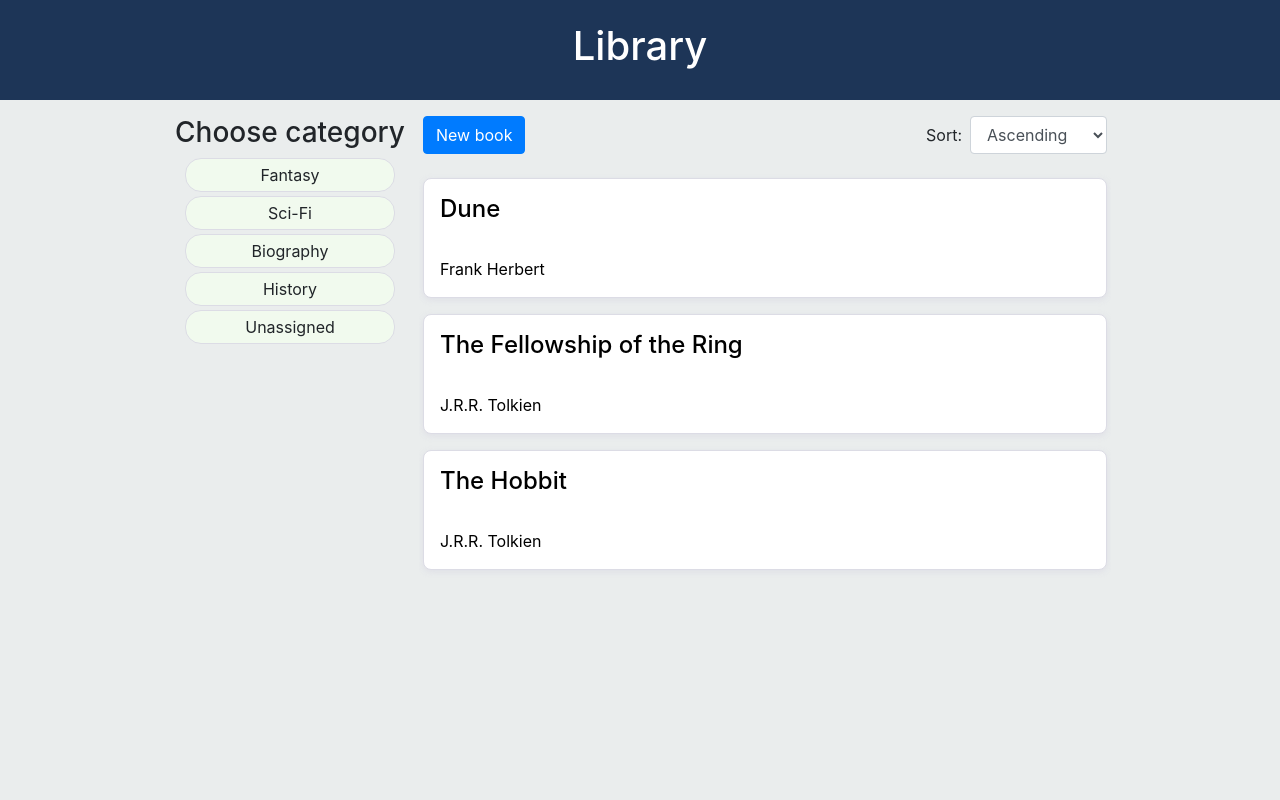
Scenario: Books list › handling categories › should show no books placeholder when filtered out everything
This screenshot has width=1280, height=800.
Click the list item "History".
click(290, 289)  # box [185,272,395,306]
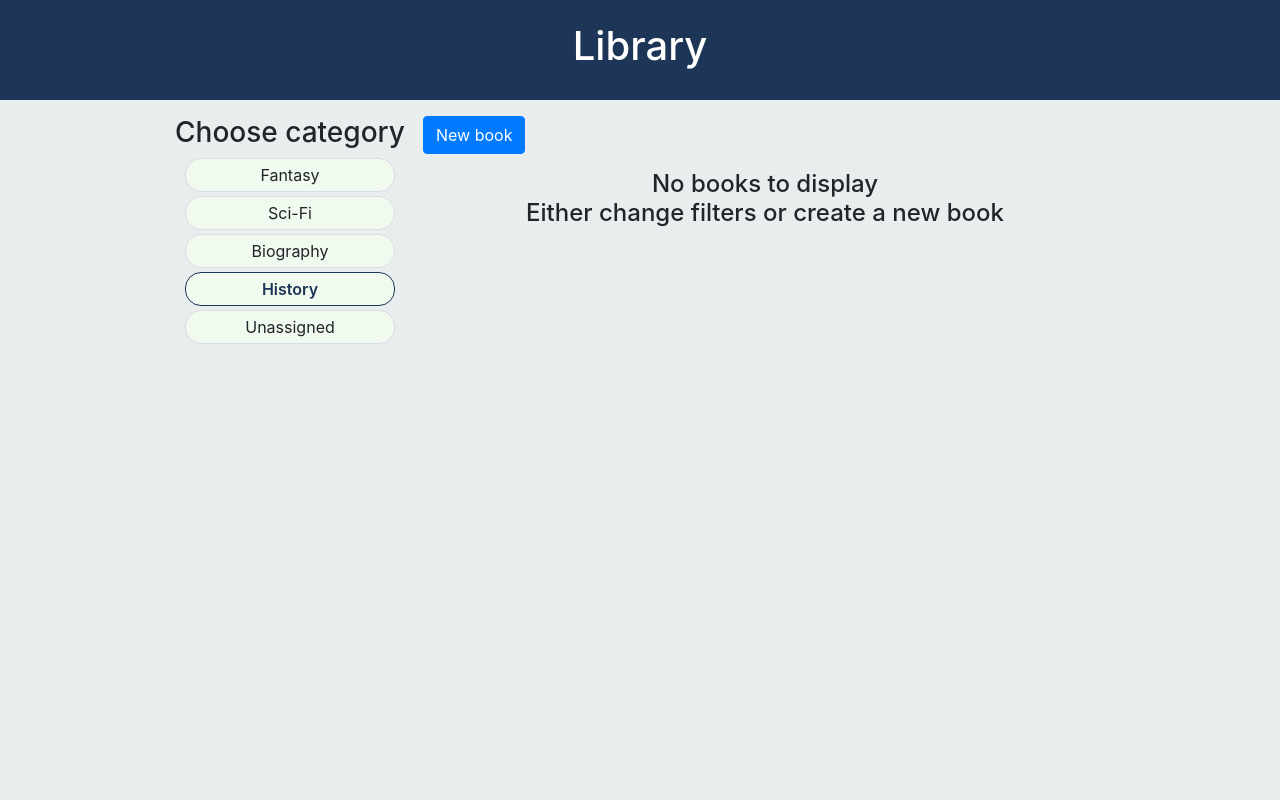
Expected: the text "No books to display" is shown, [652,170,878,199]
